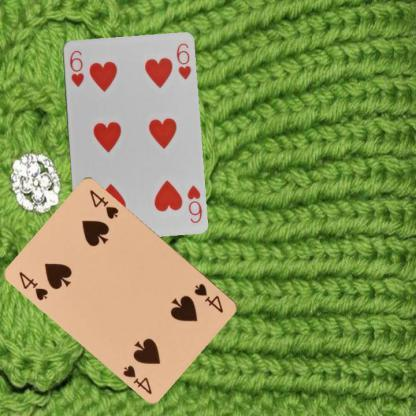4s: (192, 280, 225, 316), (16, 268, 50, 302)
6h: (184, 182, 203, 224), (66, 48, 85, 88)
